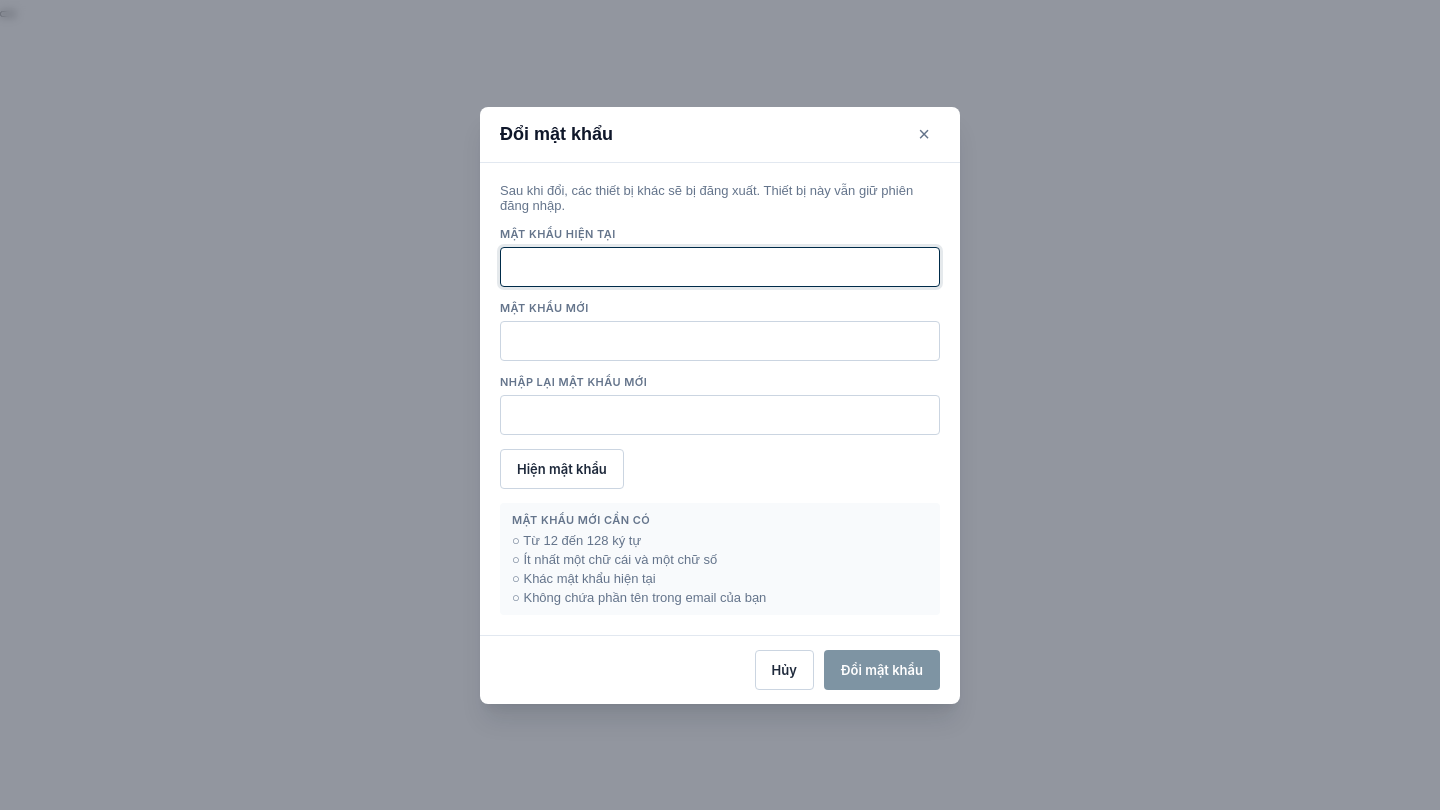
Test: ChangePasswordDialogComponent › does not reject a password for a very short email name
The image size is (1440, 810).
Type "Current-Password-1" into the password field with id "current-password". click: {"x": 720, "y": 266}
box: 500,246 -> 940,286
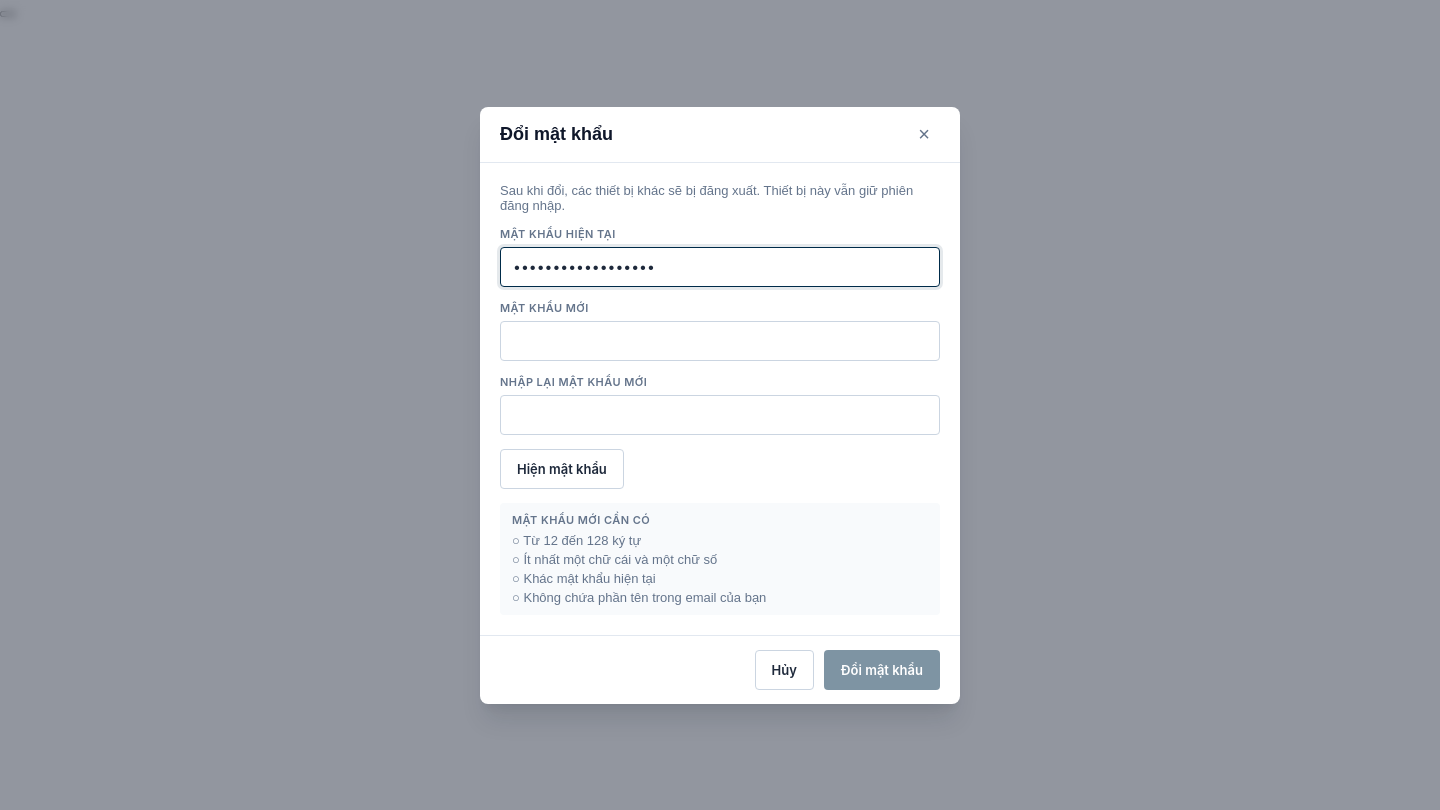
Type "Aa-correct-horse-9-battery" into the password field with id "new-password". click: {"x": 720, "y": 340}
box: 500,320 -> 940,360
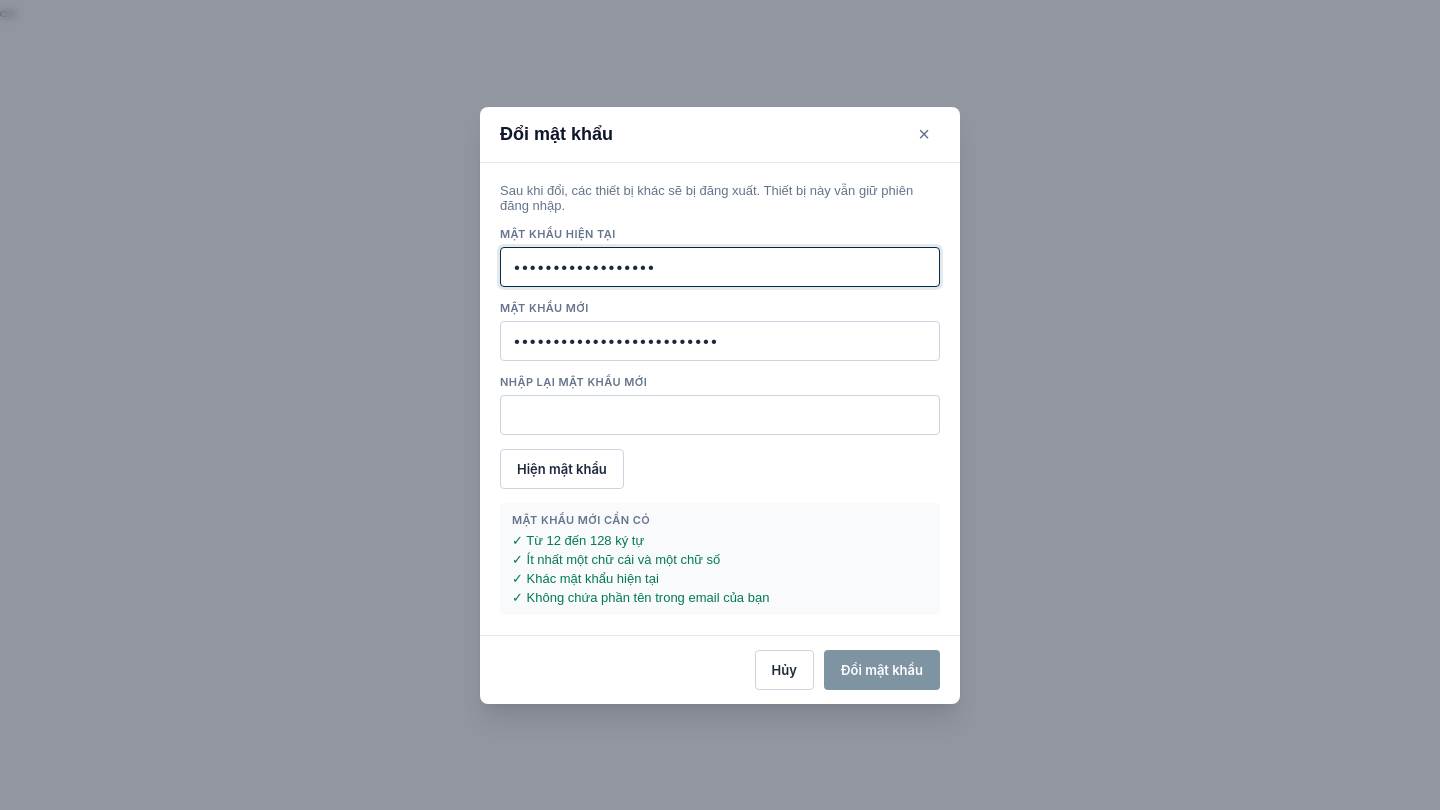
Type "Aa-correct-horse-9-battery" into the password field with id "confirm-password". click: {"x": 720, "y": 414}
box: 500,394 -> 940,434
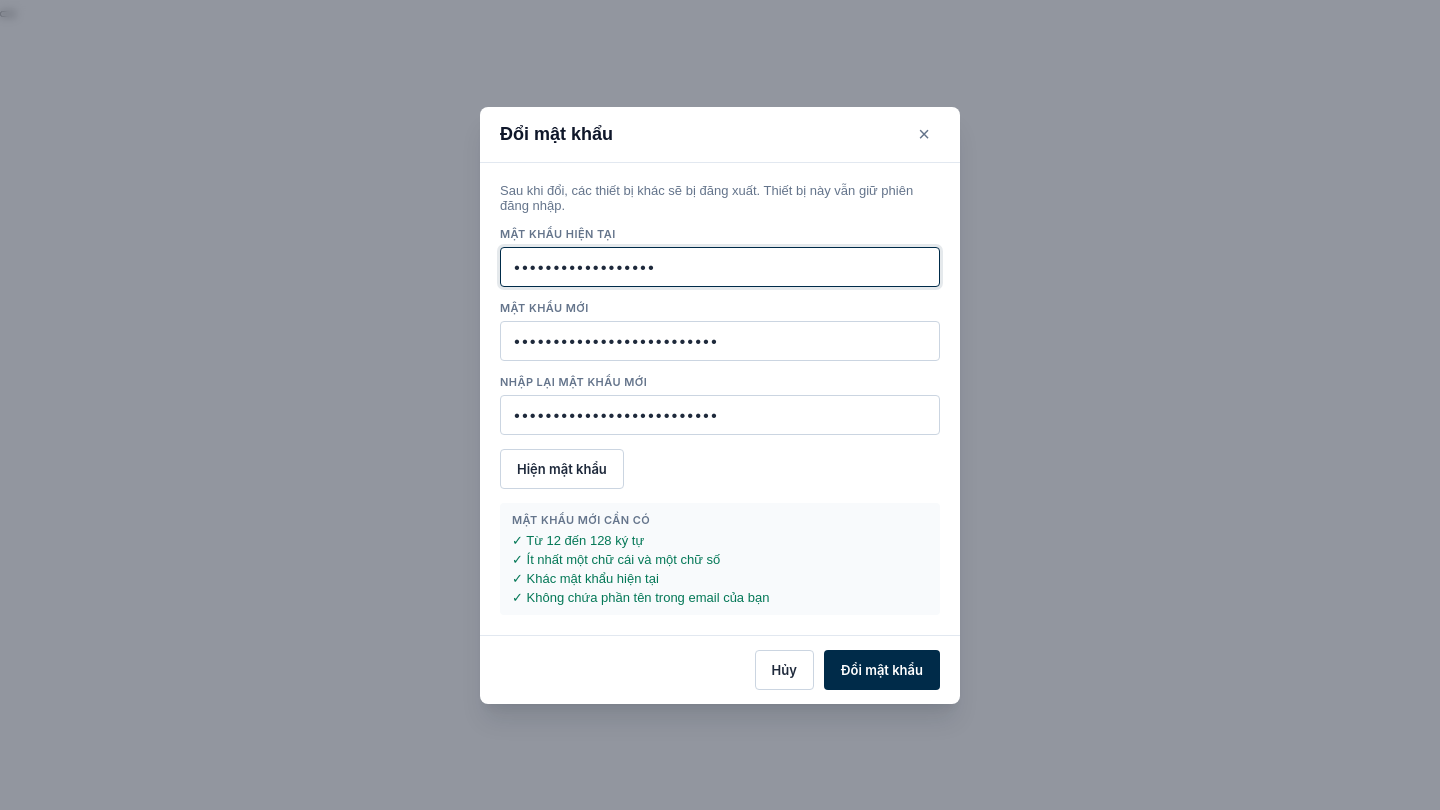
Expected: the submit button is enabled, 824,650 -> 940,690
